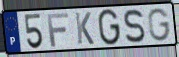5: (23, 12, 44, 50)
F: (46, 12, 70, 48)
G: (97, 8, 122, 47), (147, 7, 172, 42)
K: (73, 11, 95, 46)
S: (123, 8, 147, 45)
